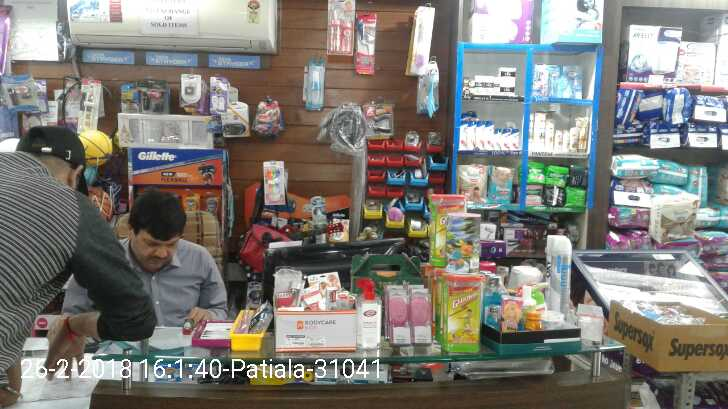gillete: (182, 192, 200, 212), (205, 193, 221, 213)
venus: (561, 64, 586, 98), (542, 63, 561, 98)
